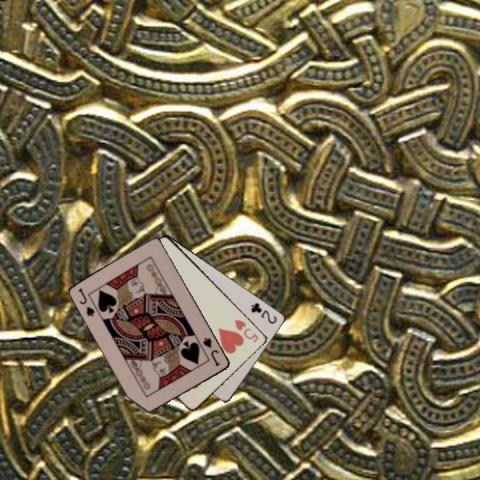2c: (248, 300, 279, 326)
5h: (232, 316, 260, 344)
Js: (200, 335, 222, 368), (74, 285, 96, 318)
